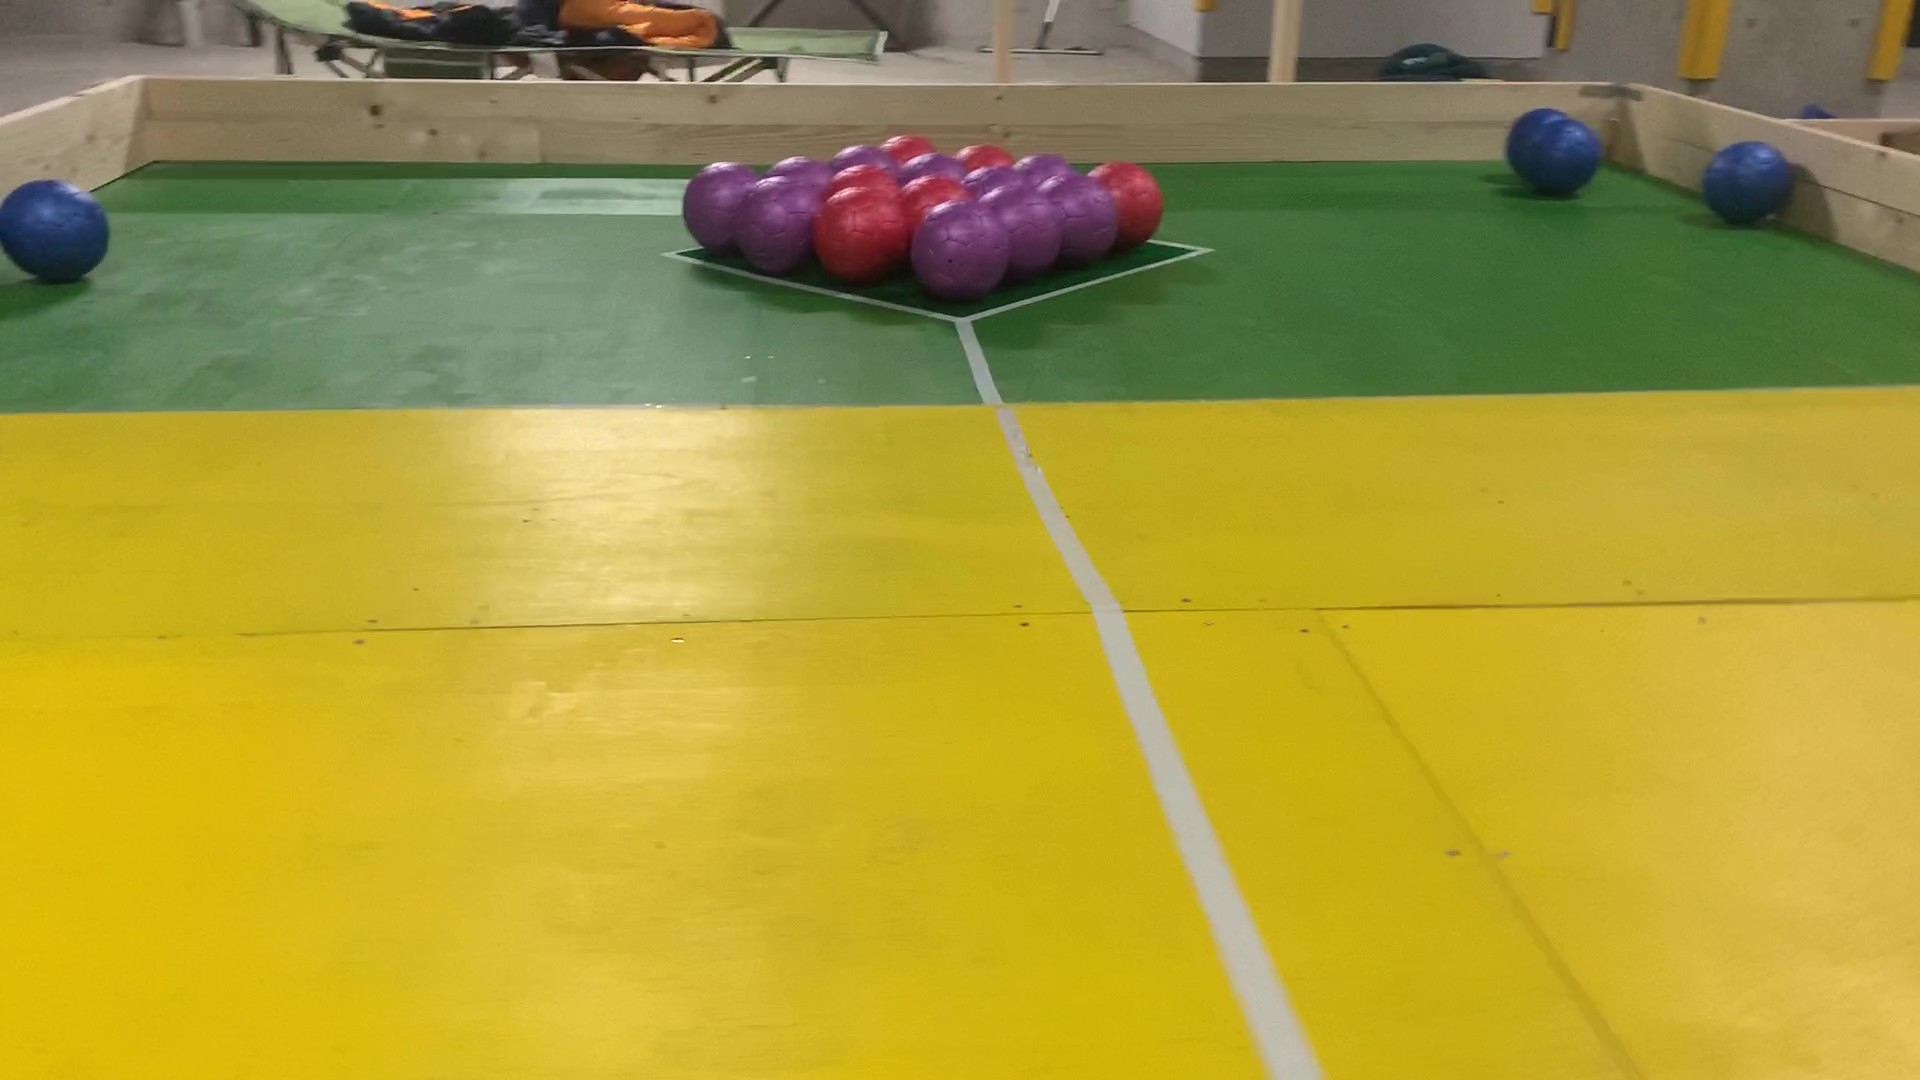blue: (6, 187, 104, 277), (1712, 150, 1781, 225), (1543, 128, 1592, 190), (1511, 109, 1540, 181)
purple: (924, 217, 995, 292), (1056, 176, 1108, 262), (745, 190, 800, 268), (997, 192, 1047, 268), (690, 164, 733, 245), (775, 152, 824, 186), (976, 171, 1031, 193), (907, 162, 964, 183), (839, 141, 885, 164), (1026, 158, 1077, 176)
red: (826, 196, 899, 277), (1116, 164, 1163, 256), (836, 162, 894, 195), (909, 183, 977, 210), (961, 140, 1018, 170), (879, 131, 937, 158)
